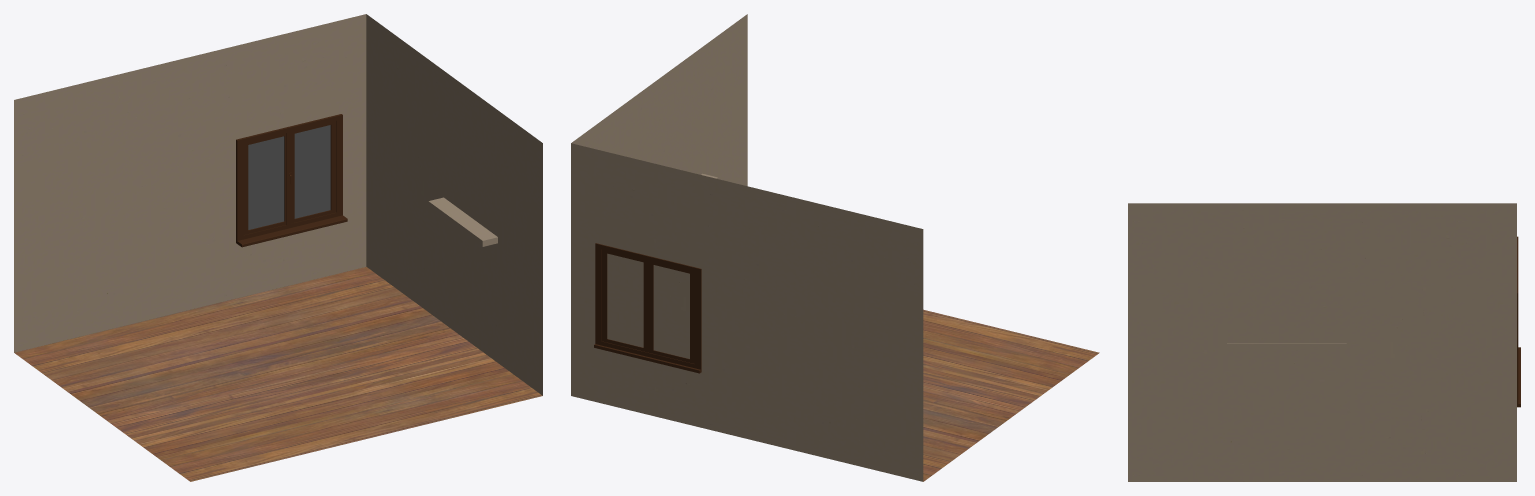
The model's file is office.glb.
The picture shows the model from 3 angles, left to right: view 1: azimuth 30°, elevation 25°; view 2: azimuth 150°, elevation 25°; view 3: azimuth 270°, elevation 25°; orthographic projection. The views are drawn at different scales.
Parts seen in each view (by area): view 1: paredes_suelo_ventana; view 2: paredes_suelo_ventana; view 3: paredes_suelo_ventana.
Part boxes in pixels (x1,y1,x2,y2): paredes_suelo_ventana: [14, 14, 542, 481]; paredes_suelo_ventana: [571, 14, 1099, 481]; paredes_suelo_ventana: [1128, 203, 1520, 481].
Bounding box in the file's own units: 6.92 × 4.74 × 6.06.
4 materials, 4 textured.
